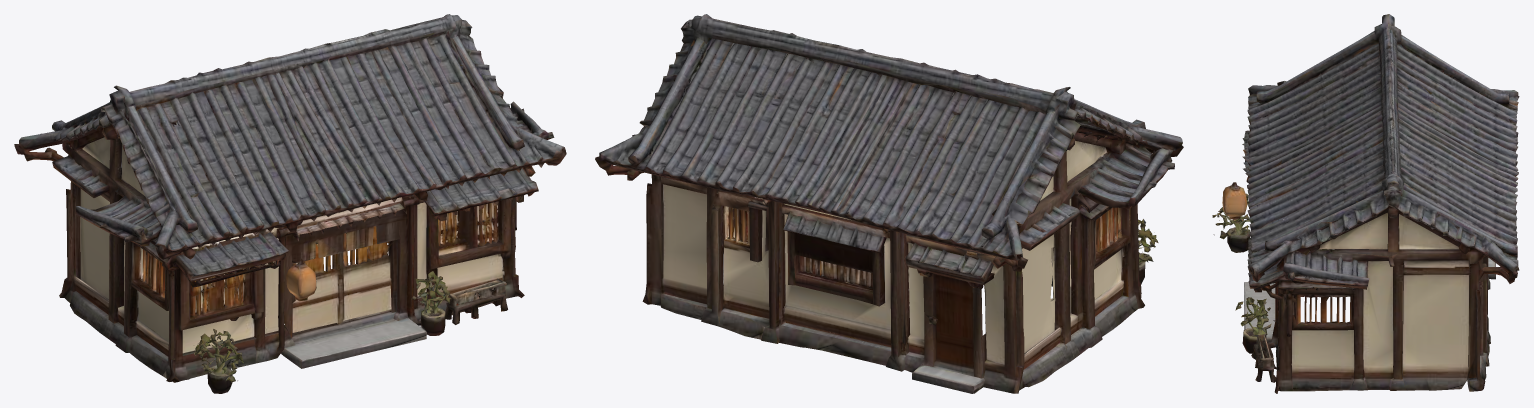
3 views of the same model, side by side, from view 1: azimuth 30°, elevation 25°; view 2: azimuth 150°, elevation 25°; view 3: azimuth 270°, elevation 25° (orthographic). The views are drawn at different scales.
Parts seen in each view (by area): view 1: compact__villa_1__native_mobile; view 2: compact__villa_1__native_mobile; view 3: compact__villa_1__native_mobile.
Part boxes in pixels (x1,y1,x2,y2): compact__villa_1__native_mobile: (14,14,566,393); compact__villa_1__native_mobile: (595,14,1183,393); compact__villa_1__native_mobile: (1212,14,1519,393).
Bounding box in the file's own units: 1 × 0.5446 × 0.6617.
Materials: 1 (1 with a texture image).
